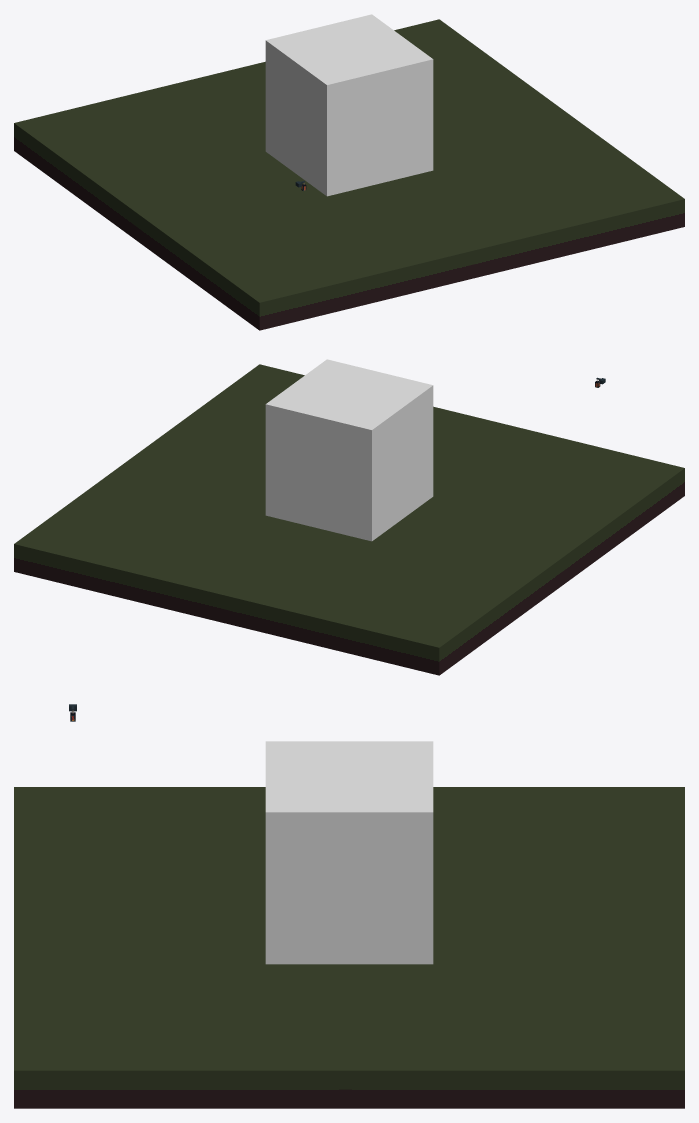
Rendered from lich_room_small.glb.
The picture shows the model from 3 angles, top to bottom: view 1: azimuth 30°, elevation 25°; view 2: azimuth 150°, elevation 25°; view 3: azimuth 270°, elevation 25°; orthographic projection. The views are drawn at different scales.
Visible parts, largest first — view 1: FLOOR_1, SPAWN_lich; view 2: FLOOR_1, SPAWN_lich; view 3: FLOOR_1, SPAWN_lich.
Part boxes in pixels (x1=…): FLOOR_1: x1=14, y1=19, x2=684, y2=330; SPAWN_lich: x1=265, y1=14, x2=433, y2=196; FLOOR_1: x1=14, y1=364, x2=684, y2=675; SPAWN_lich: x1=265, y1=359, x2=433, y2=541; FLOOR_1: x1=14, y1=787, x2=684, y2=1108; SPAWN_lich: x1=265, y1=741, x2=433, y2=964.
Bounding box in the file's own units: 8 × 2.5 × 8.
2 materials, 2 textured.
